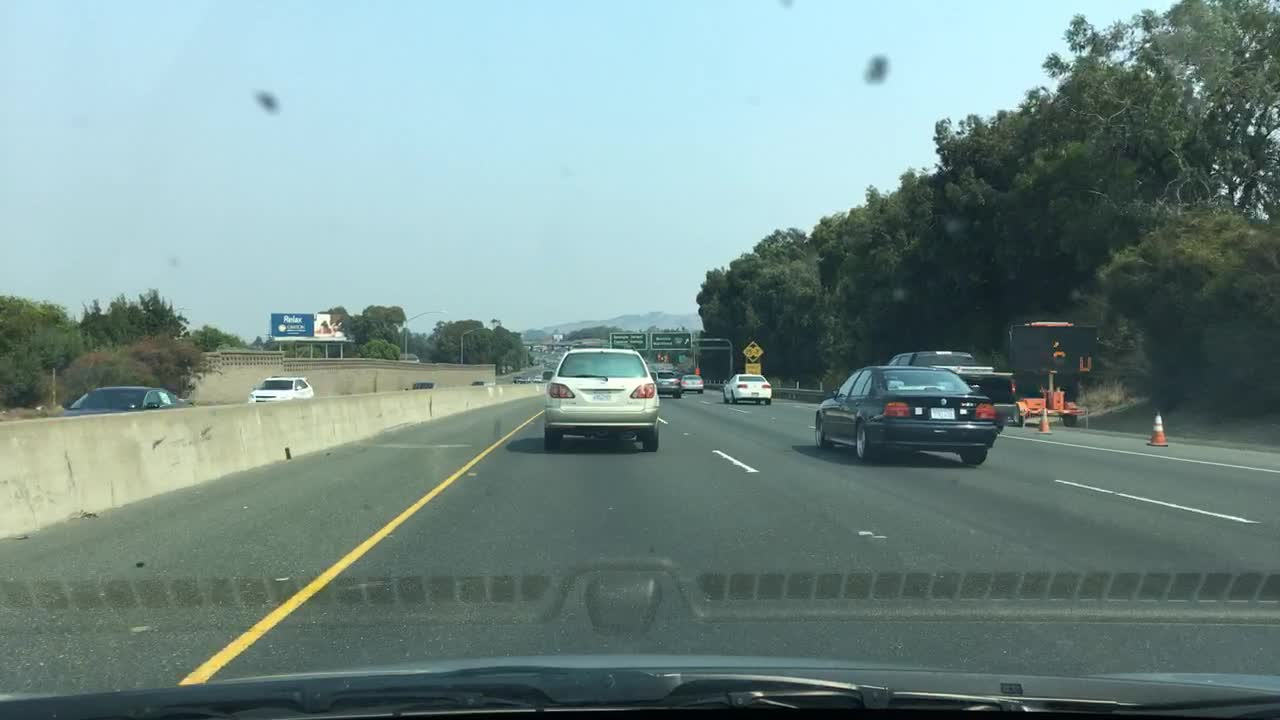car: (811, 363, 1002, 466), (539, 346, 665, 449), (1007, 322, 1097, 427), (59, 387, 199, 415), (246, 373, 312, 407), (721, 373, 772, 404), (655, 369, 679, 398), (681, 374, 705, 393), (410, 379, 437, 390), (511, 374, 531, 384), (469, 378, 488, 386), (531, 373, 545, 382)
traffic sign: (650, 330, 693, 351), (611, 331, 648, 350), (740, 342, 763, 362), (745, 363, 760, 375), (691, 367, 702, 375)
truck: (884, 349, 1017, 436)
